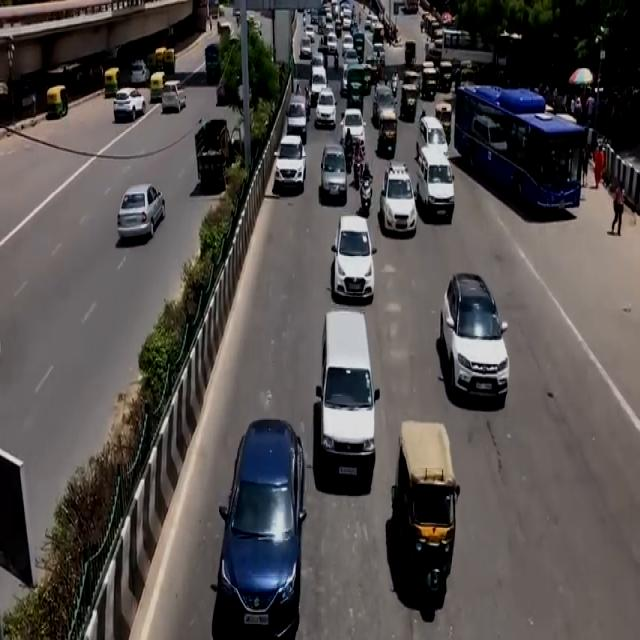BUS: (454, 78, 582, 226)
SED: (225, 424, 298, 640), (334, 214, 373, 299)
TRUCK: (322, 308, 374, 478)
